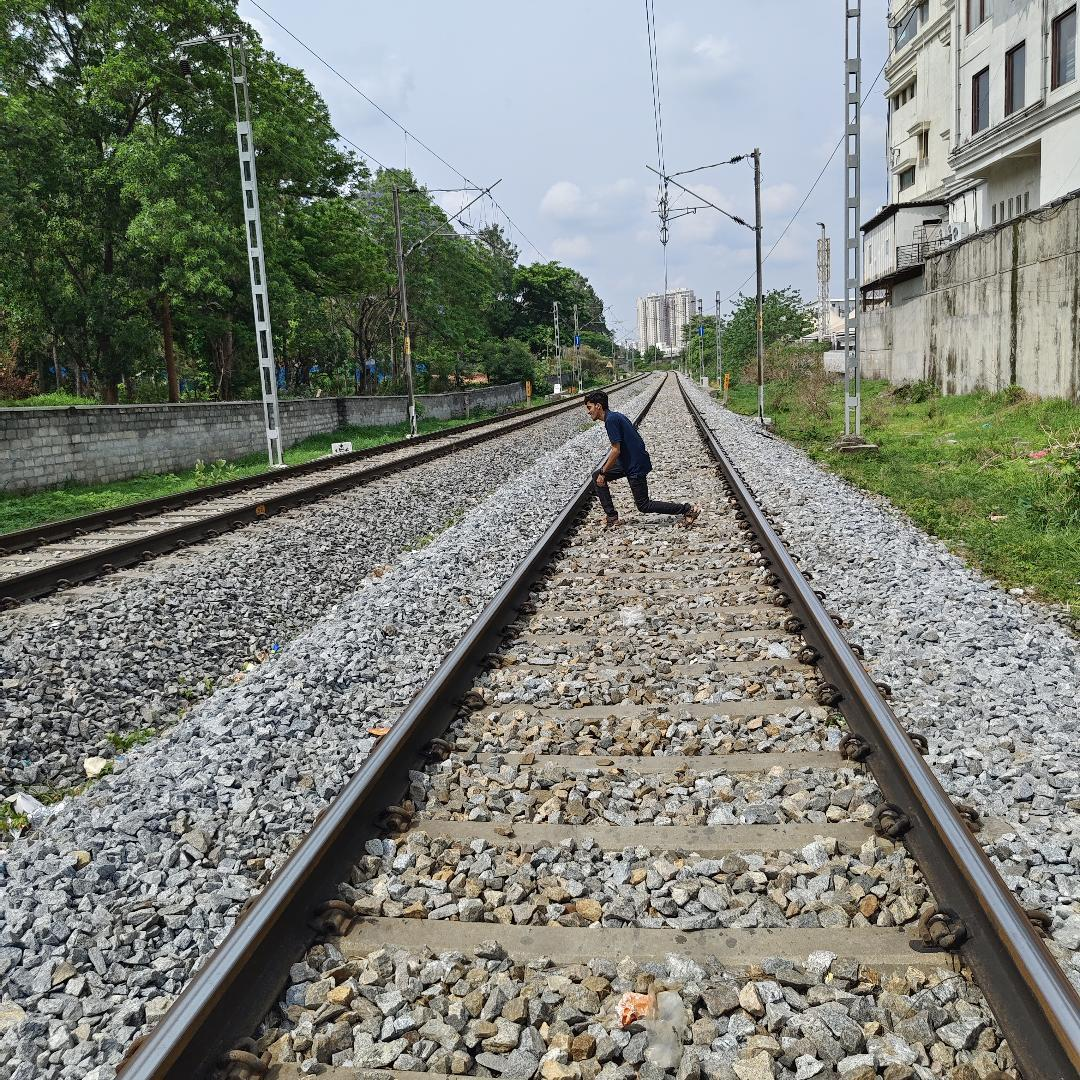sitting: (557, 372, 710, 532)
track: (0, 371, 1080, 1080)
